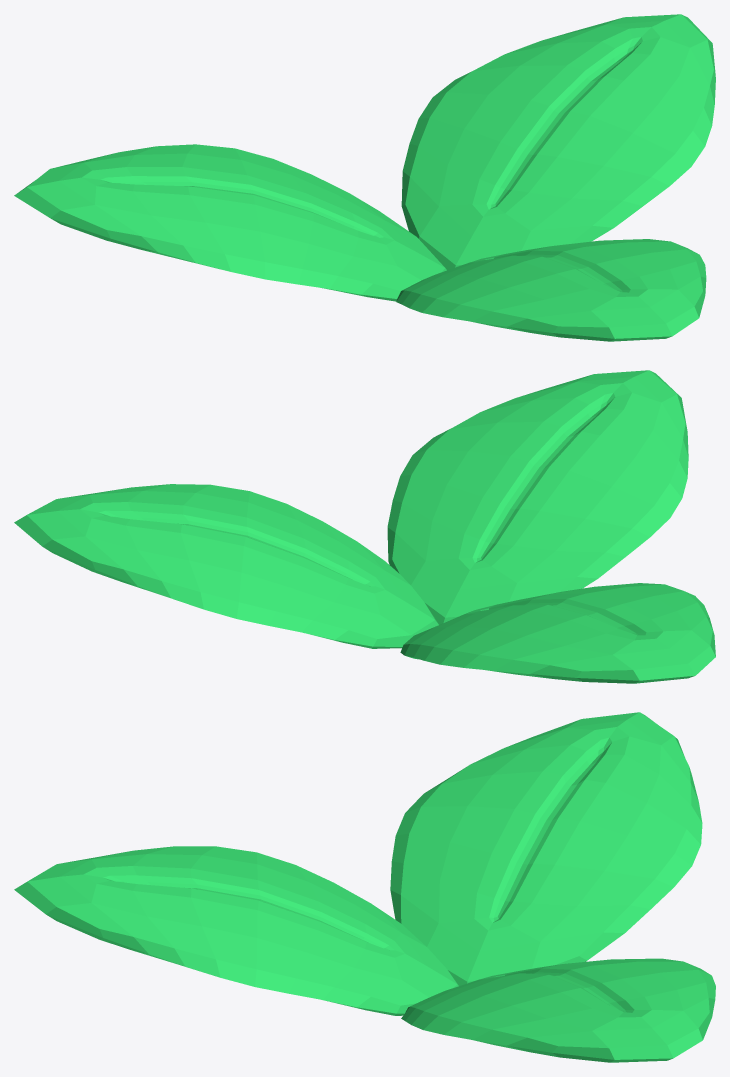
File: smallPlant.fbx
3 views of the same model, one above another, from view 1: azimuth 30°, elevation 25°; view 2: azimuth 150°, elevation 25°; view 3: azimuth 270°, elevation 25° (orthographic). The views are drawn at different scales.
Parts seen in each view (by area): view 1: Plane.002; view 2: Plane.002; view 3: Plane.002.
Part boxes in pixels (box(x1,y1,x2,y2)): Plane.002: box(14, 14, 715, 341); Plane.002: box(14, 370, 715, 683); Plane.002: box(14, 712, 715, 1062).
Size of the model in its own units: 3.96 by 0.6704 by 3.43.
